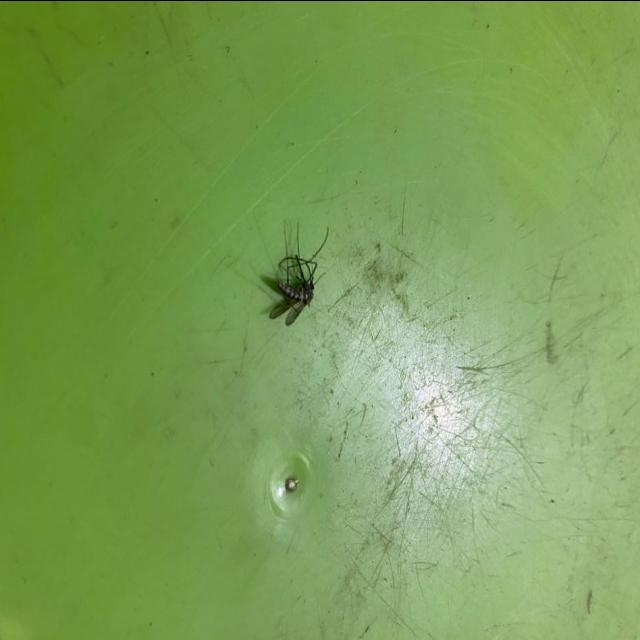Mosquito: (259, 229, 327, 331)
